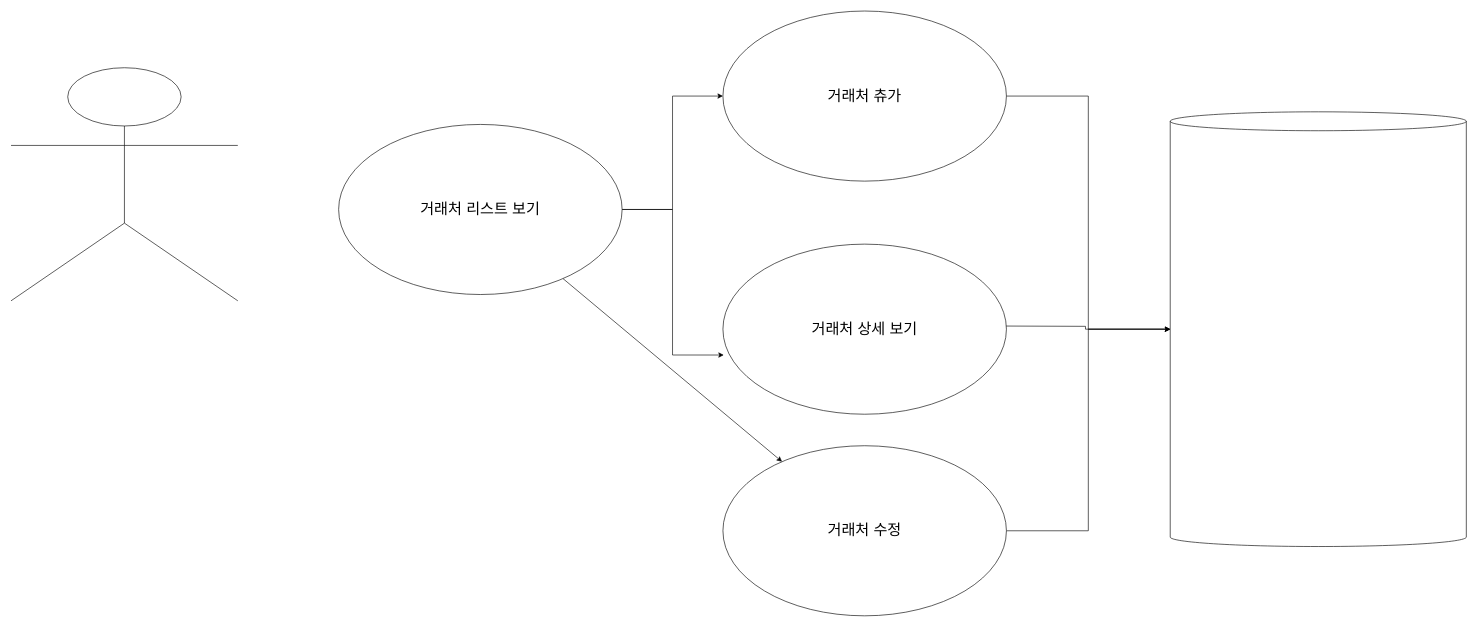
This 1477x627 diagram has some shape labels left out. The shapes that lost their labels are listed below. From the top down, each one's box as (x1, y1, x2, y2) in pixels, then its label:
(10, 67, 238, 301): Actor
(1170, 111, 1466, 547): 거래처 정보 Table
